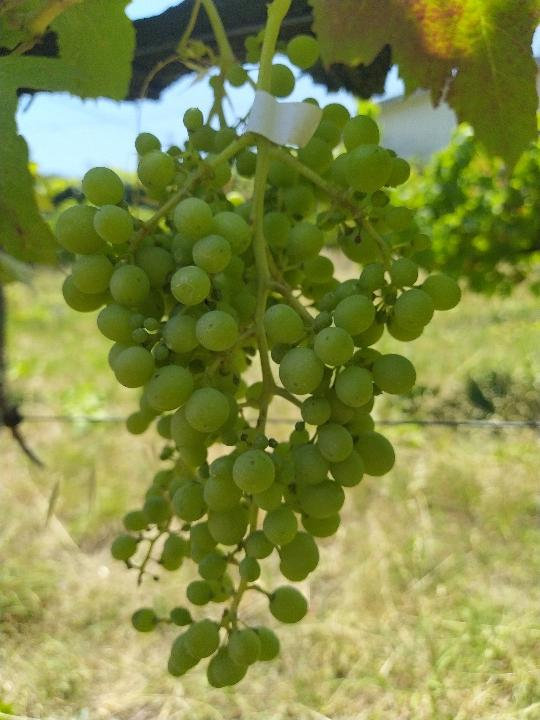grape: (56, 64, 471, 692)
